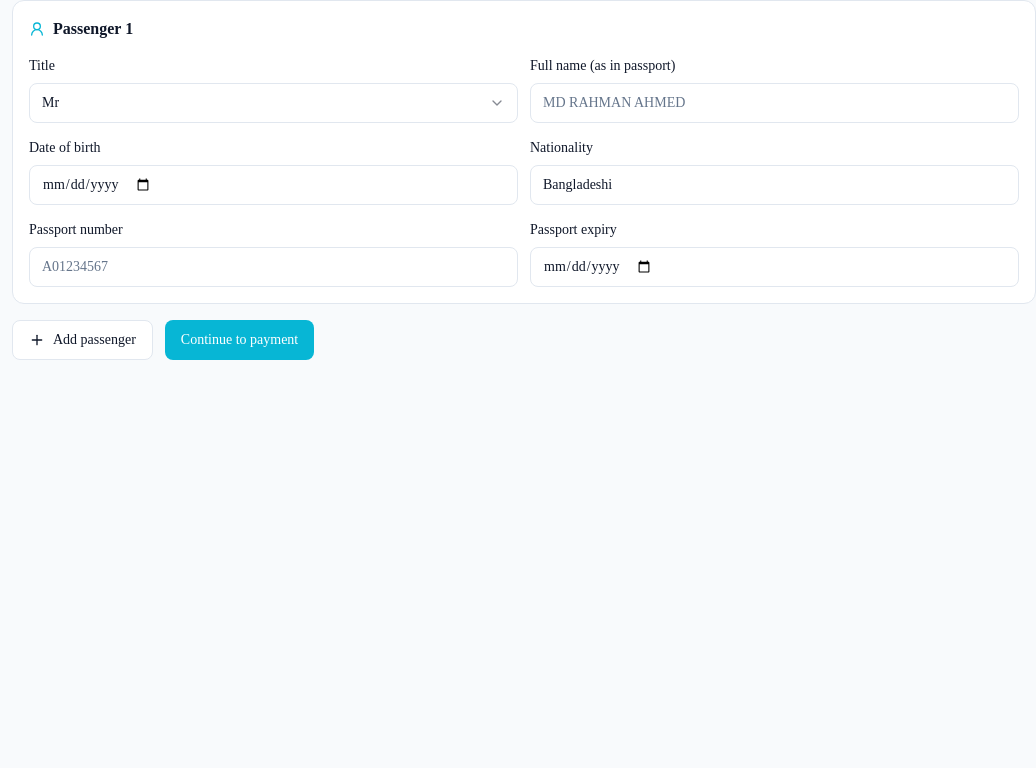
Test: PassengerForm › adds and removes passengers
What coordinates should you click on to do the following:
click the button "Add passenger"
I would click on:
 (82, 340)
Its box is [12,320,153,360].
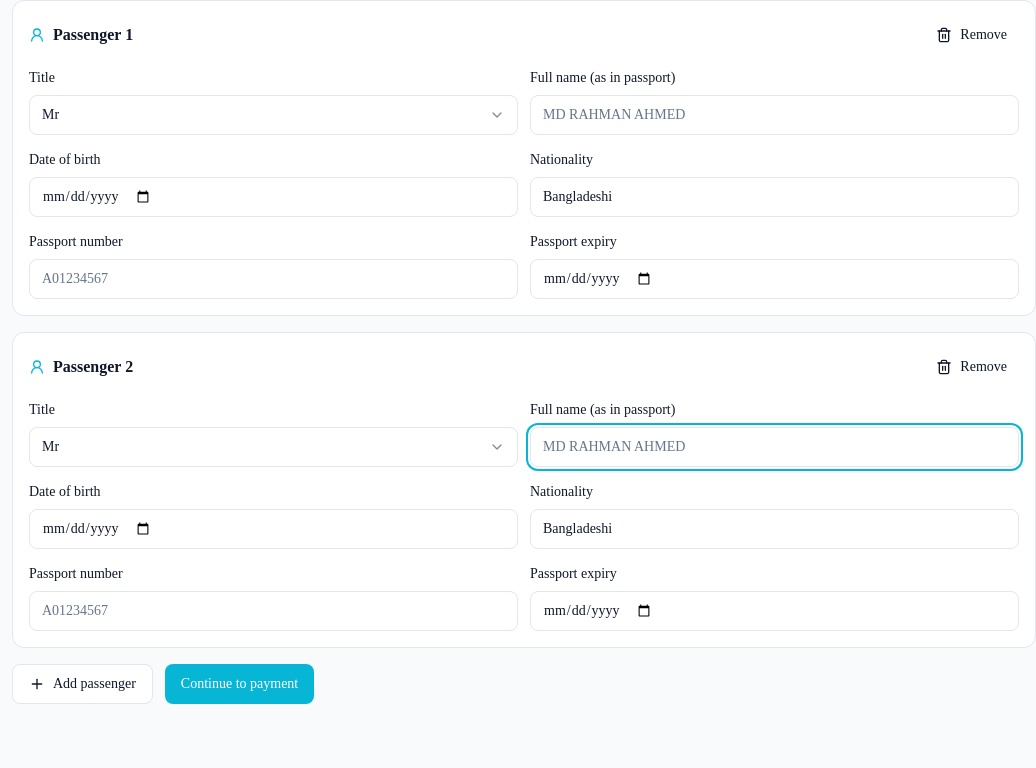
Now the text "Passenger 2" is shown, box [29,355,133,379]
What coordinates should you click on to do the following:
click the 1st button "Remove"
I would click on:
 (972, 35)
Its box is [924,17,1019,53].
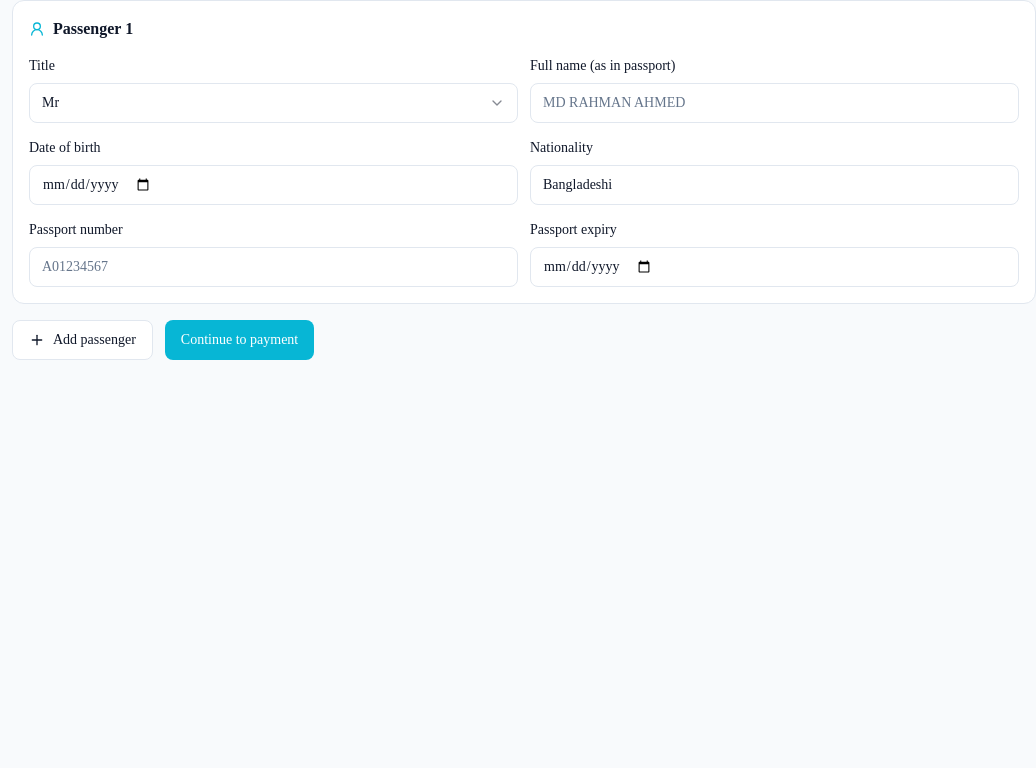
Now the text "Passenger 2" is gone
